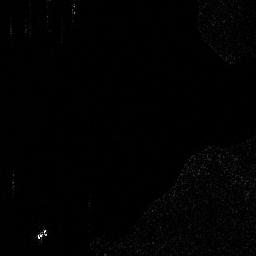ship: (37, 228, 49, 240)
